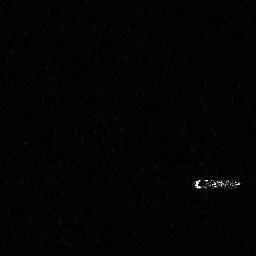ship: (190, 176, 246, 193)
